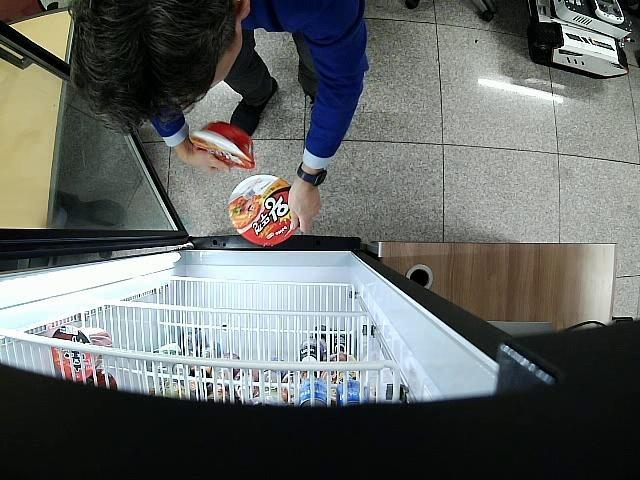10_wangTtukkeong: (230, 175, 300, 246), (189, 120, 256, 168)
